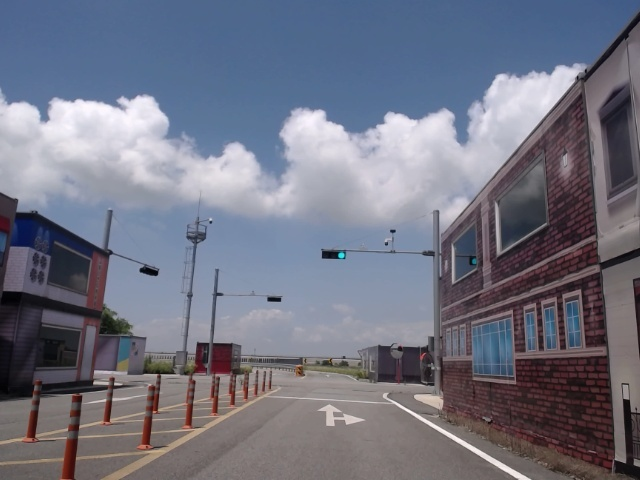green_3: (321, 251, 346, 258)
